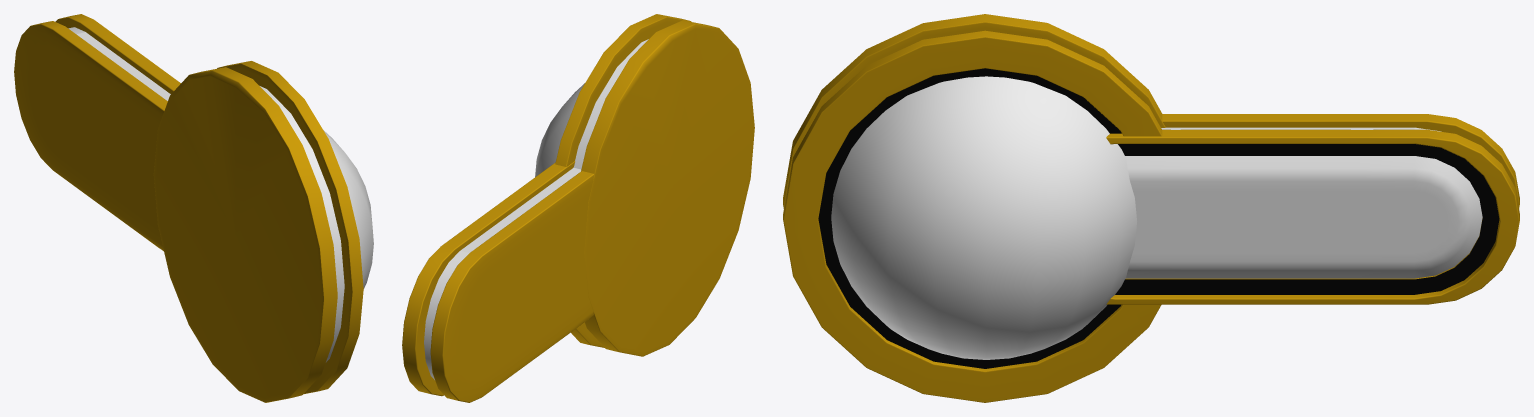
Rendered from room_sign_03.fbx.
3 renders of one model, left to right at view 1: azimuth 30°, elevation 25°; view 2: azimuth 150°, elevation 25°; view 3: azimuth 270°, elevation 25°, orthographic. The views are drawn at different scales.
Visible parts, largest first — view 1: pSphere5; view 2: pSphere5; view 3: pSphere5.
Boxes of the visible parts, x1,y1,x2,y2 form: pSphere5: [14, 14, 373, 402]; pSphere5: [402, 14, 754, 402]; pSphere5: [783, 14, 1519, 402].
Size of the model in its own units: 0.8514 by 2.07 by 3.77.
